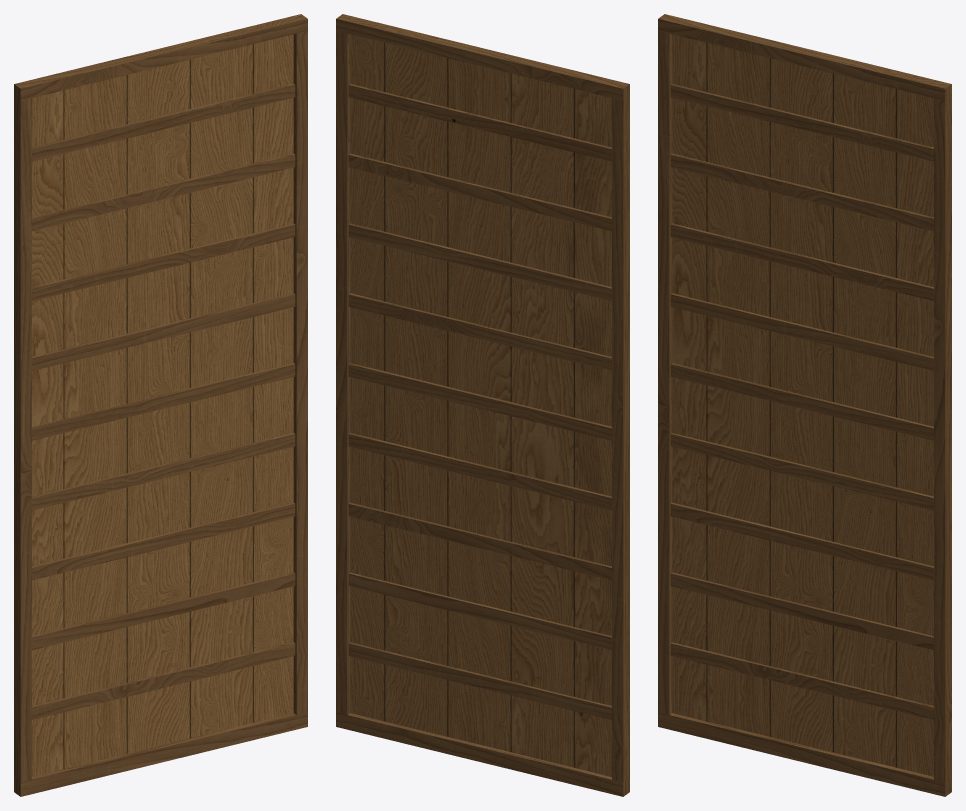
3 renders of one model, left to right at view 1: azimuth 30°, elevation 25°; view 2: azimuth 150°, elevation 25°; view 3: azimuth 330°, elevation 25°, orthographic.
Parts seen in each view (by area): view 1: 木戸; view 2: 木戸; view 3: 木戸.
Part boxes in pixels (x1,y1,x2,y2): 木戸: [14, 14, 307, 796]; 木戸: [336, 14, 629, 796]; 木戸: [658, 14, 951, 796].
Bounding box in the file's own units: 0.7639 × 1.8 × 0.03.
